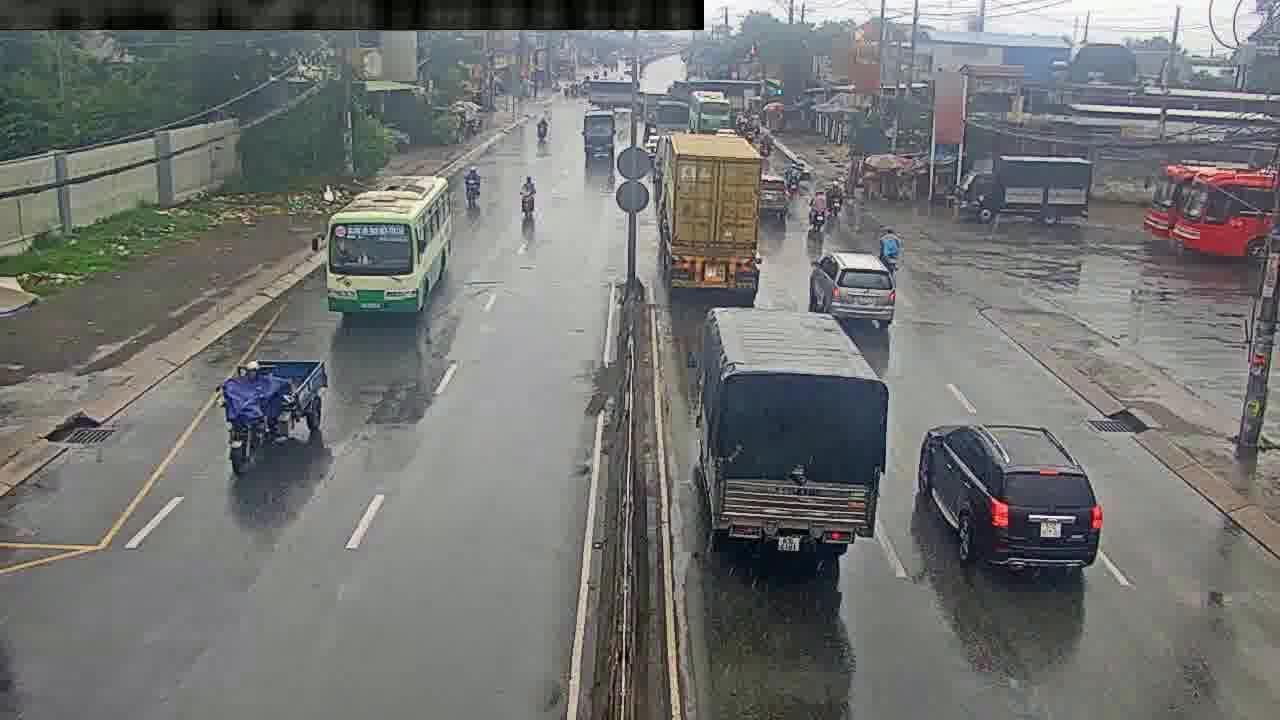car: (922, 417, 1102, 576), (810, 257, 891, 317), (758, 171, 789, 216)
container: (696, 310, 888, 564), (658, 132, 767, 276), (583, 105, 623, 158)
motorbike: (872, 224, 903, 282), (518, 166, 540, 222), (461, 159, 484, 206), (808, 191, 826, 235), (826, 178, 845, 215), (535, 107, 553, 142)
passenger_car: (322, 179, 441, 323)
